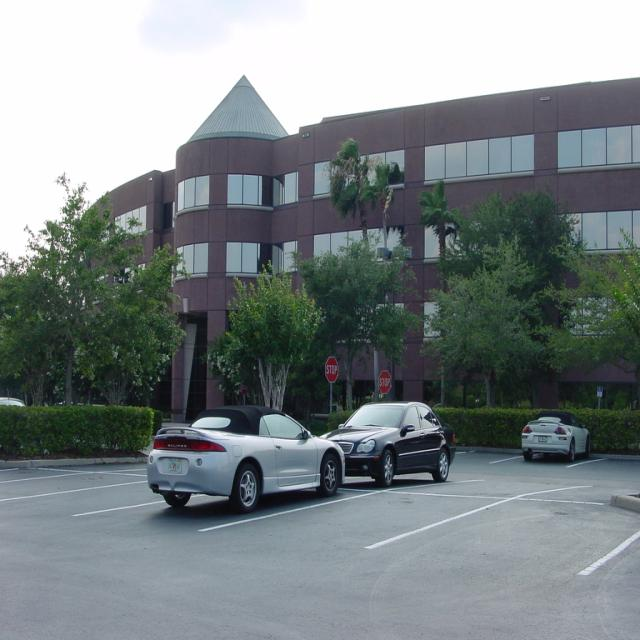car: (143, 398, 347, 499), (516, 407, 593, 458)
